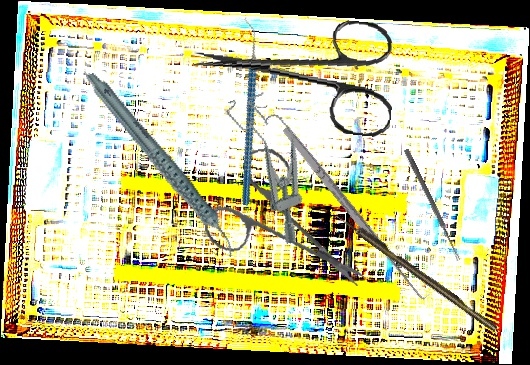Chopper: (179, 16, 314, 207)
Handpiece: (83, 51, 238, 280)
Hook Surgical: (279, 119, 435, 305), (334, 210, 499, 334)
Iris Scissors: (194, 136, 365, 308), (187, 4, 401, 139)
Speculum: (223, 85, 328, 248)
Surgical Spoon: (402, 148, 463, 262)
